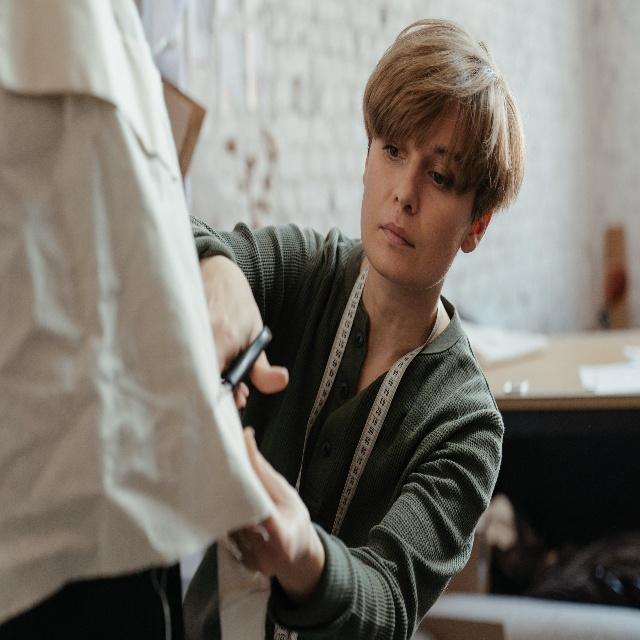Sin_guantes: (200, 249, 289, 410), (232, 423, 313, 583)
